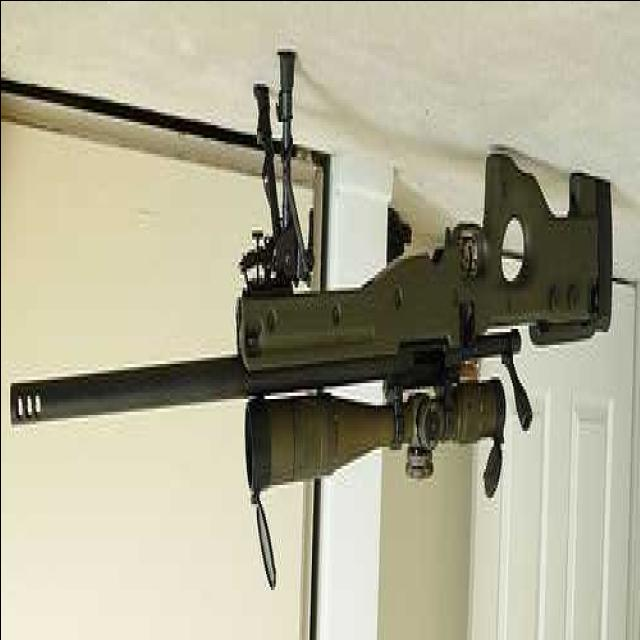heavyweapon: (5, 74, 621, 584)
